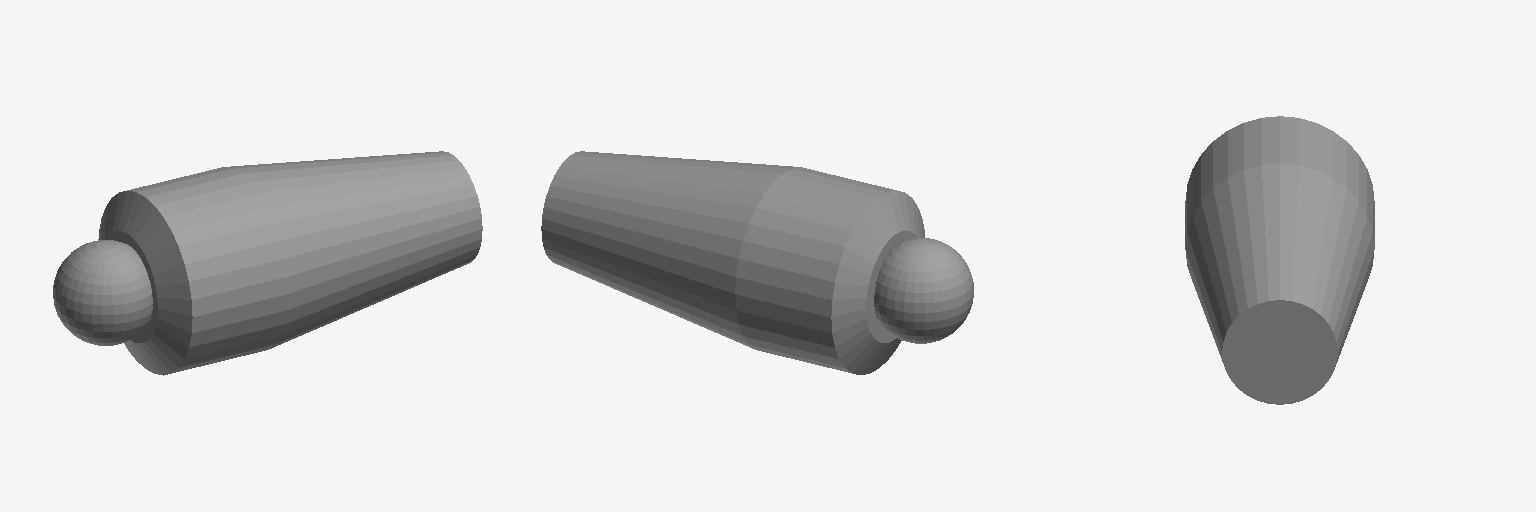
File: limb2.obj
3 renders of one model, left to right at view 1: azimuth 30°, elevation 25°; view 2: azimuth 150°, elevation 25°; view 3: azimuth 270°, elevation 25°, orthographic.
Visible parts, largest first — view 1: Limb1_Cylinder.001, Sphere; view 2: Limb1_Cylinder.001, Sphere; view 3: Limb1_Cylinder.001.
Boxes of the visible parts, x1,y1,x2,y2 form: Limb1_Cylinder.001: [98, 151, 482, 375]; Sphere: [53, 240, 152, 345]; Limb1_Cylinder.001: [541, 151, 924, 374]; Sphere: [874, 238, 973, 343]; Limb1_Cylinder.001: [1185, 116, 1374, 404].
Bounding box in the file's own units: 0.7804 × 0.3235 × 0.3235.